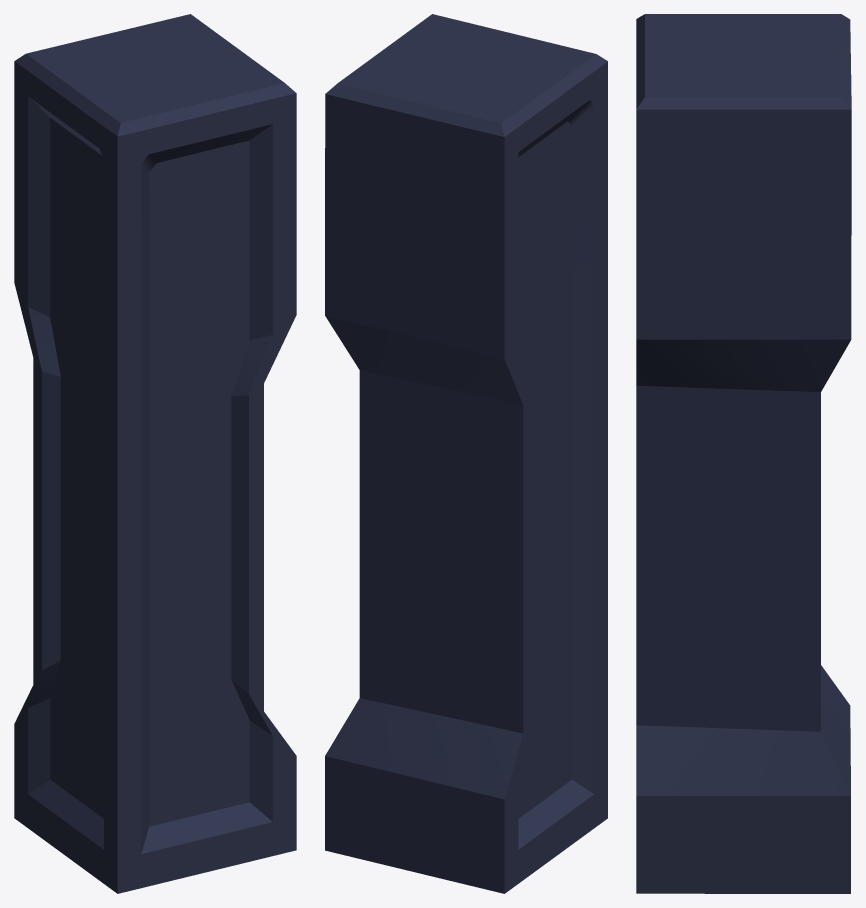
The model's file is Pillar_Full_Short.fbx.
3 views of the same model, side by side, from view 1: azimuth 30°, elevation 25°; view 2: azimuth 150°, elevation 25°; view 3: azimuth 270°, elevation 25° (orthographic). The views are drawn at different scales.
Visible parts, largest first — view 1: Pillar_Full_Short; view 2: Pillar_Full_Short; view 3: Pillar_Full_Short.
Part boxes in pixels (x1,y1,x2,y2): Pillar_Full_Short: [14, 14, 296, 893]; Pillar_Full_Short: [325, 14, 607, 893]; Pillar_Full_Short: [636, 14, 851, 893].
Size of the model in its own units: 178 by 725 by 179.
